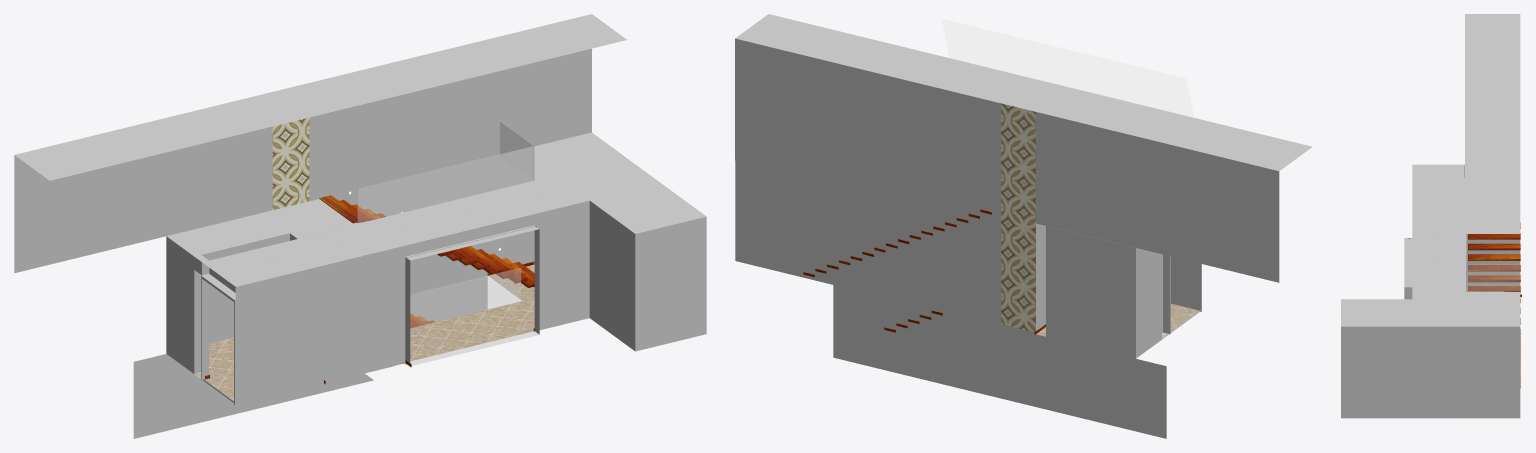
The model's file is modern_hall_extended.glb.
The picture shows the model from 3 angles, left to right: view 1: azimuth 30°, elevation 25°; view 2: azimuth 150°, elevation 25°; view 3: azimuth 270°, elevation 25°; orthographic projection. The views are drawn at different scales.
Parts seen in each view (by area): view 1: 17_Wall, 18_Wall, 15_Glass_green_to_air, 14_FloorTiles, 31_diffuse_00, 13_Wallpaper, 16_Wood, 04_Wall, 10_Metal; view 2: 17_Wall, 28_diffuse_00, 13_Wallpaper, 18_Wall, 16_Wood; view 3: 17_Wall, 16_Wood, 18_Wall, 15_Glass_green_to_air, 31_diffuse_00.
Boxes of the visible parts, left/top/right/bottom form: 17_Wall: left=14, top=14, right=706, bottom=438; 18_Wall: left=273, top=83, right=512, bottom=378; 15_Glass_green_to_air: left=357, top=121, right=534, bottom=327; 14_FloorTiles: left=194, top=264, right=534, bottom=401; 31_diffuse_00: left=365, top=345, right=519, bottom=394; 13_Wallpaper: left=272, top=117, right=309, bottom=209; 16_Wood: left=319, top=195, right=534, bottom=327; 04_Wall: left=201, top=275, right=237, bottom=404; 10_Metal: left=203, top=331, right=539, bottom=402; 17_Wall: left=735, top=14, right=1312, bottom=438; 28_diffuse_00: left=941, top=18, right=1194, bottom=117; 13_Wallpaper: left=1001, top=103, right=1035, bottom=331; 18_Wall: left=802, top=55, right=1068, bottom=124; 16_Wood: left=803, top=209, right=991, bottom=332; 17_Wall: left=1341, top=14, right=1520, bottom=418; 16_Wood: left=1468, top=222, right=1520, bottom=387; 18_Wall: left=1412, top=112, right=1520, bottom=223; 15_Glass_green_to_air: left=1466, top=234, right=1519, bottom=291; 31_diffuse_00: left=1462, top=418, right=1517, bottom=423.
Size of the model in its own units: 28.88 by 15.07 by 10.03.
21 materials, 3 textured.
